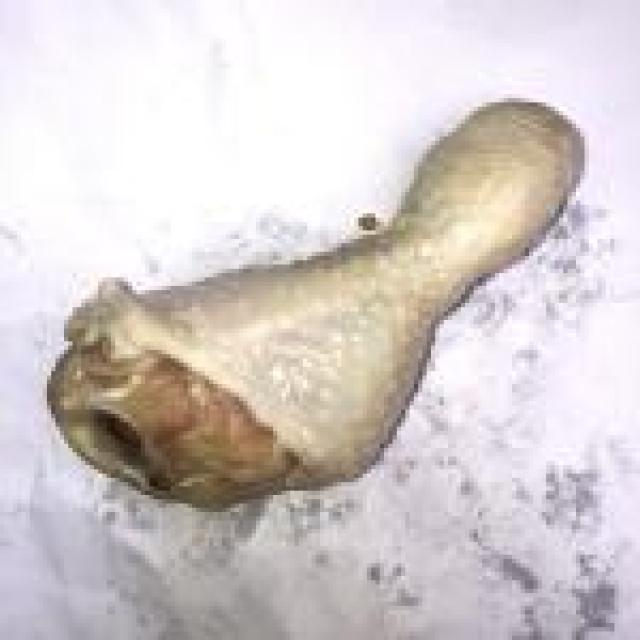leg: (52, 91, 584, 516)
